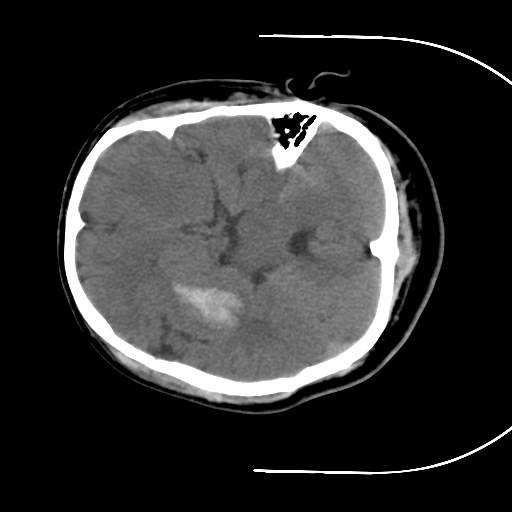a: (161, 269, 258, 345)
